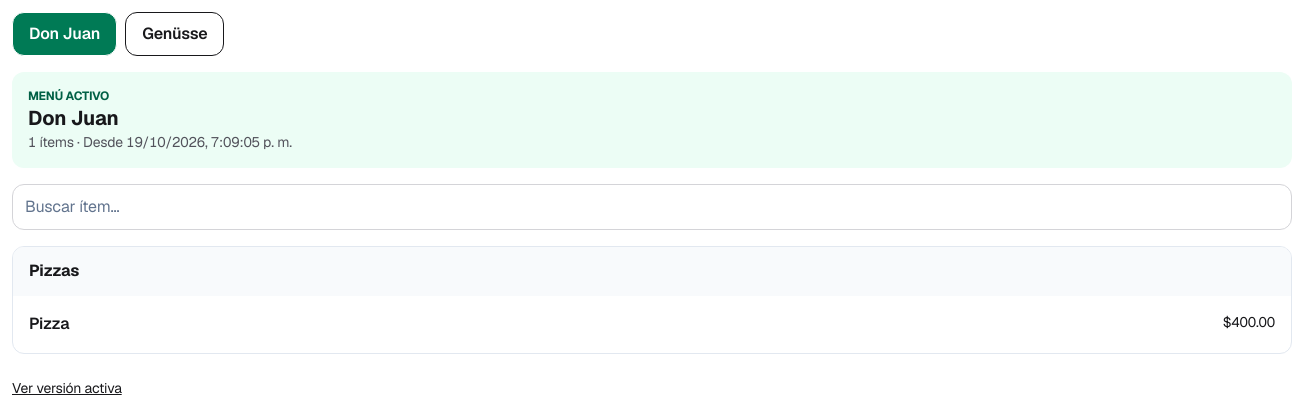
Test: opens on active contents and switches menu families without mixing prices
Expected: the text "Menú activo" is shown, left=28, top=88, right=109, bottom=104
Expected: the text "$400.00" is shown, left=1223, top=312, right=1275, bottom=337
Click the button "Genüsse".
click(175, 34)  # box left=125, top=12, right=224, bottom=56
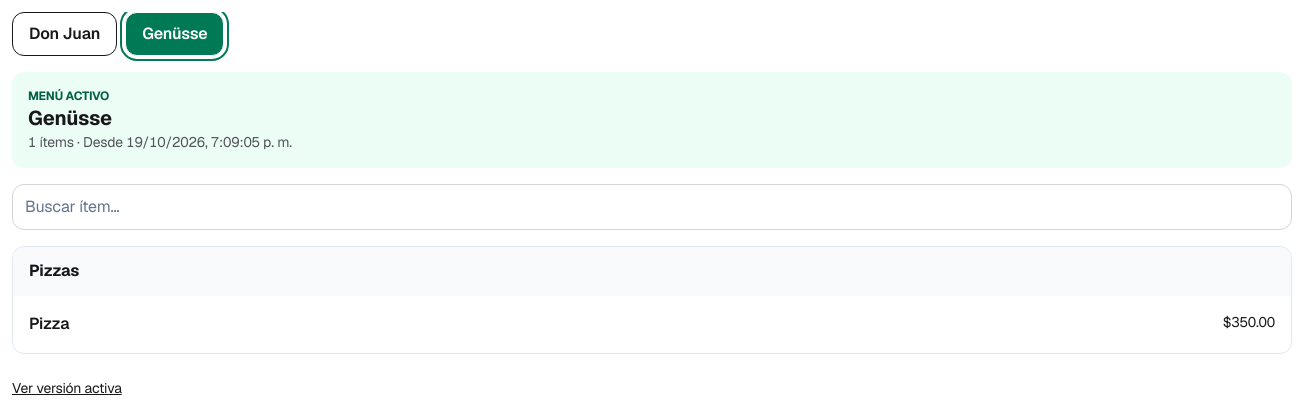
Result: the text "$350.00" is shown at left=1223, top=312, right=1275, bottom=337
Result: the text "$400.00" is gone
